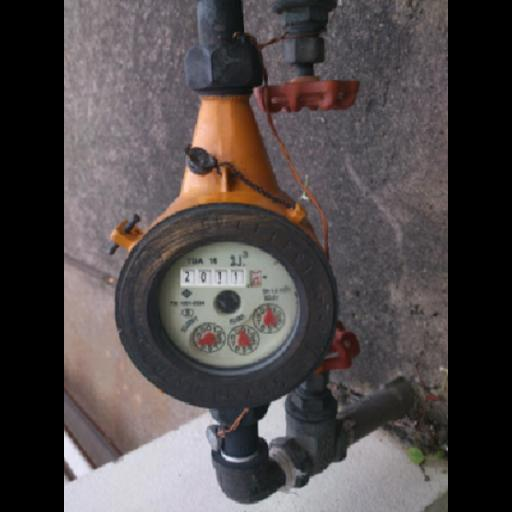0: (199, 270, 211, 284)
1: (215, 270, 227, 284), (232, 270, 244, 284)
2: (183, 270, 195, 284)
4: (250, 271, 260, 286)
border_water_meter_number: (180, 269, 262, 288)
